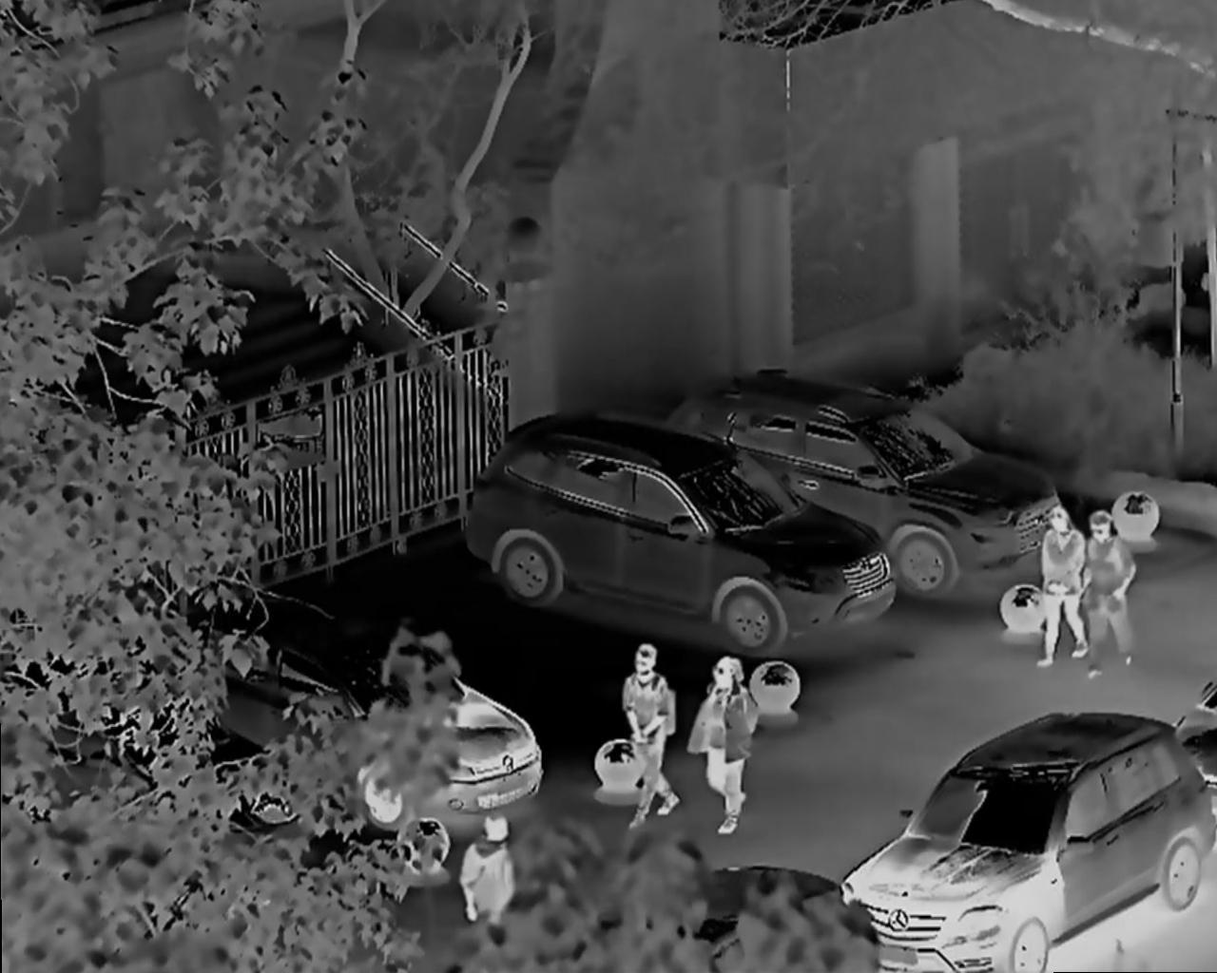person: (619, 640, 688, 827), (693, 649, 758, 838), (1079, 517, 1149, 674), (459, 811, 531, 932), (1040, 505, 1081, 677)
